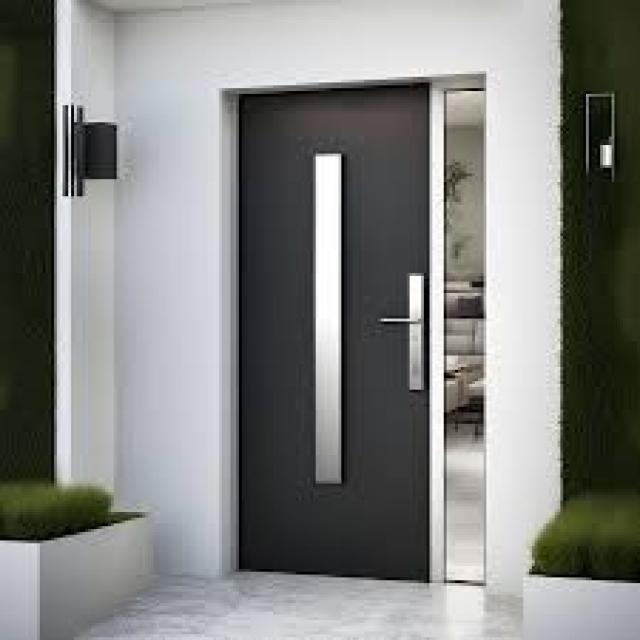door: (236, 81, 432, 582)
